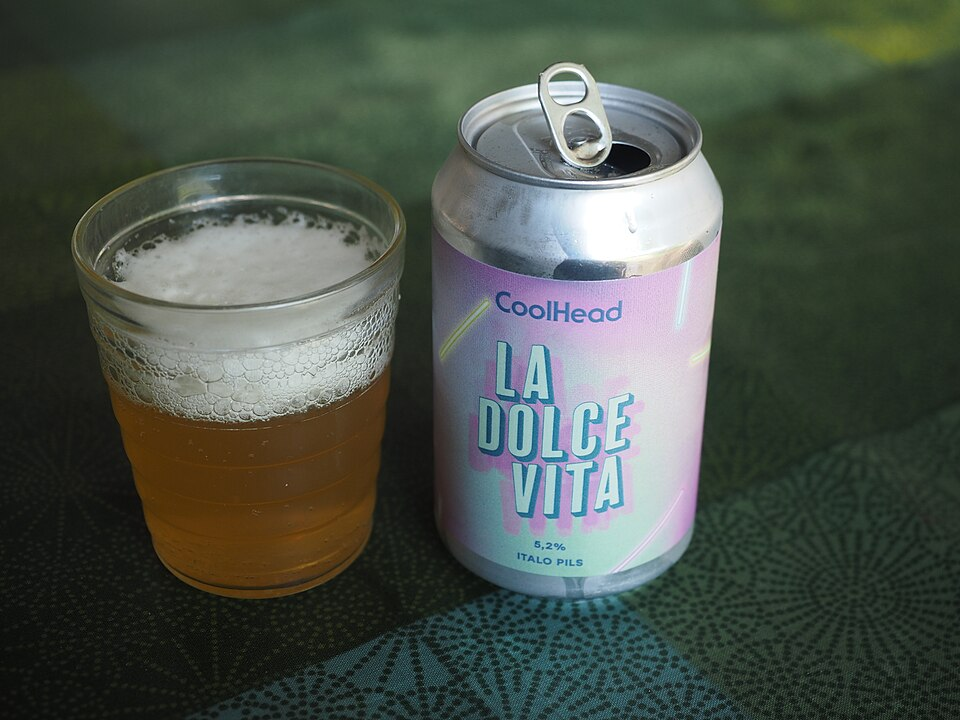beer-can: (421, 68, 730, 619)
